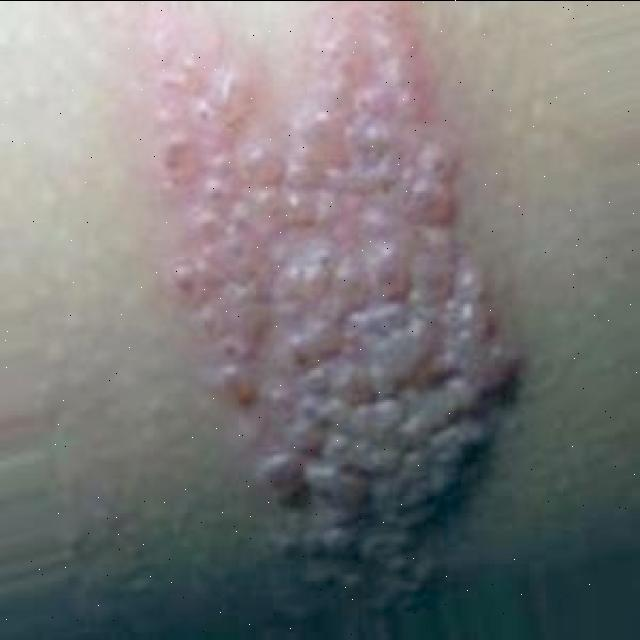Shingles: (153, 0, 520, 607)
